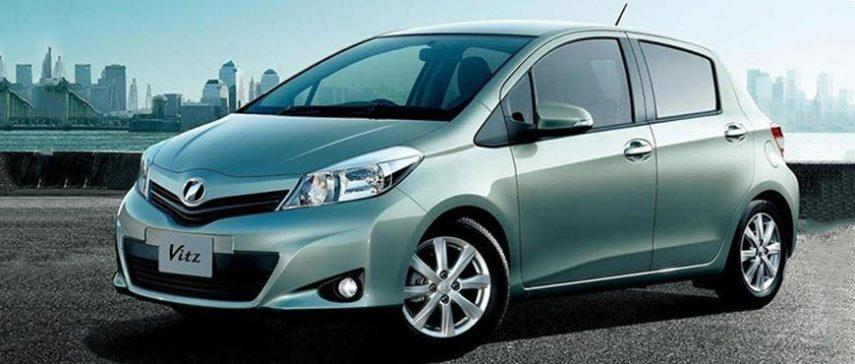Hatchback: (90, 17, 827, 360)
